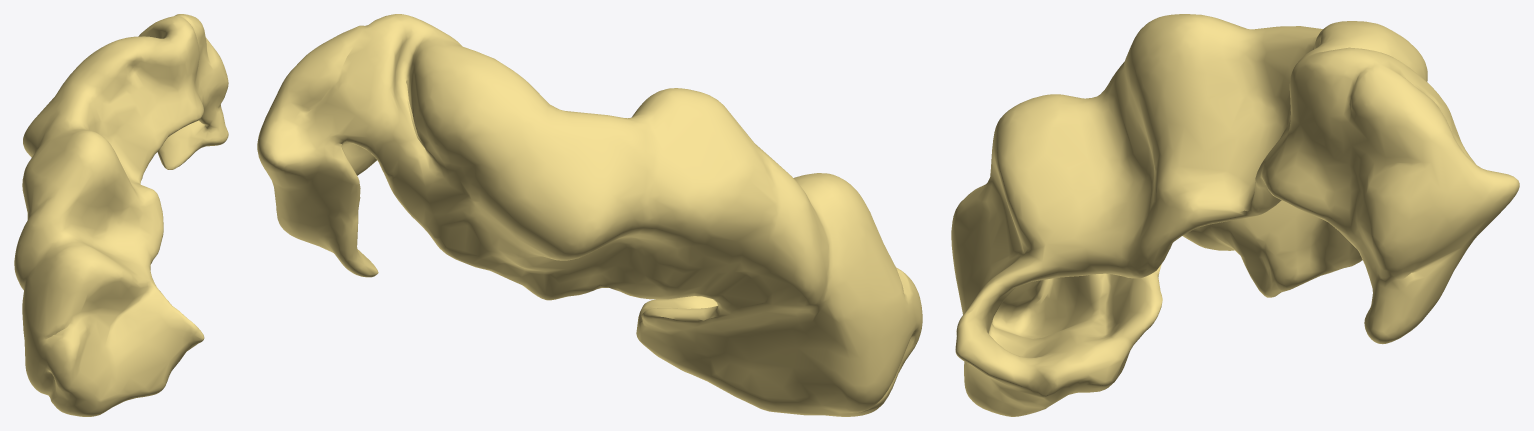
The model's file is fma72665.glb.
3 renders of one model, left to right at view 1: azimuth 30°, elevation 25°; view 2: azimuth 150°, elevation 25°; view 3: azimuth 270°, elevation 25°, orthographic. The views are drawn at different scales.
Parts seen in each view (by area): view 1: FMA72665; view 2: FMA72665; view 3: FMA72665.
Boxes of the visible parts, bbox=[...] form: FMA72665: bbox=[14, 14, 228, 416]; FMA72665: bbox=[257, 14, 922, 416]; FMA72665: bbox=[951, 14, 1519, 416].
Size of the model in its own units: 0.0632 by 0.0566 by 0.0602.
